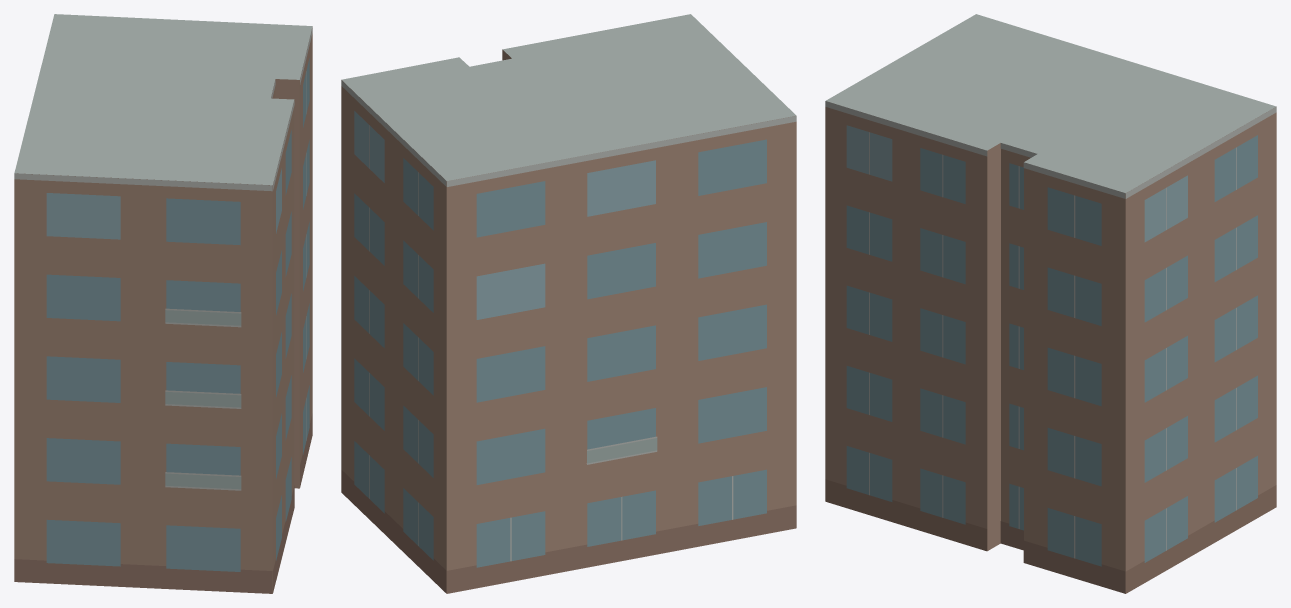
File: survey-upis-32890392.glb
3 views of the same model, side by side, from view 1: azimuth 30°, elevation 25°; view 2: azimuth 150°, elevation 25°; view 3: azimuth 270°, elevation 25° (orthographic). The views are drawn at different scales.
Visible parts, largest first — view 1: survey-upis-32890392.tmp; view 2: survey-upis-32890392.tmp; view 3: survey-upis-32890392.tmp.
Boxes of the visible parts, x1,y1,x2,y2 form: survey-upis-32890392.tmp: [14, 14, 312, 593]; survey-upis-32890392.tmp: [341, 14, 796, 593]; survey-upis-32890392.tmp: [825, 14, 1276, 593].
Size of the model in its own units: 16.03 by 16.7 by 17.05.
